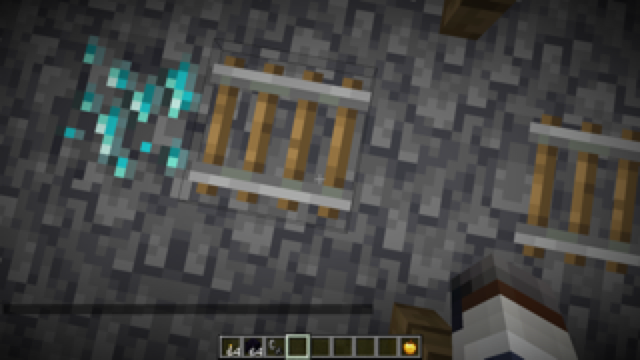diamond: (56, 30, 213, 198)
